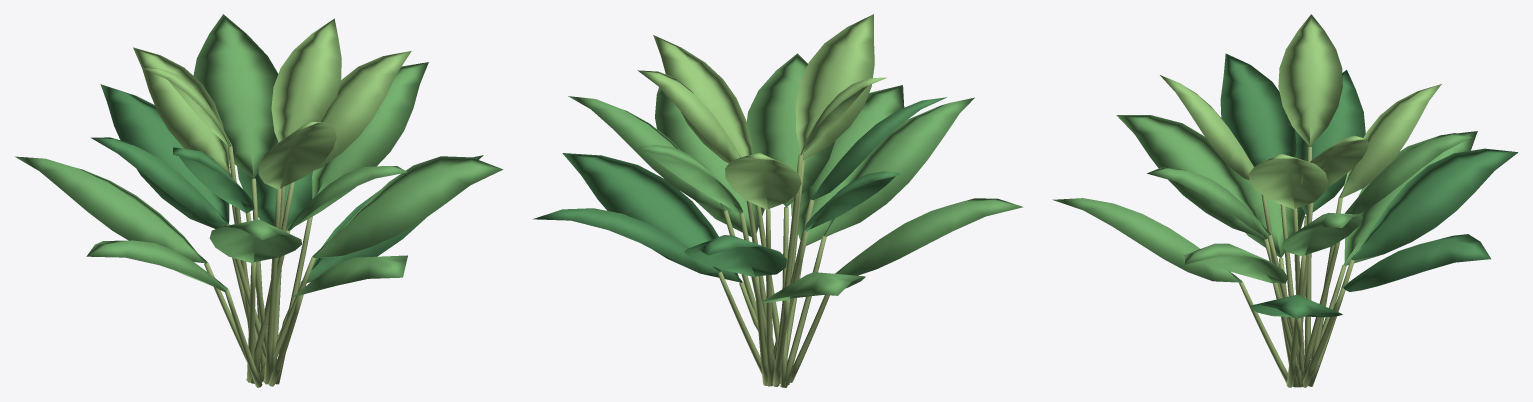
Rendered from SM_PlantPot.fbx.
3 renders of one model, left to right at view 1: azimuth 30°, elevation 25°; view 2: azimuth 150°, elevation 25°; view 3: azimuth 270°, elevation 25°, orthographic. The views are drawn at different scales.
Visible parts, largest first — view 1: PlantPot; view 2: PlantPot; view 3: PlantPot.
Part boxes in pixels (left/top/right/bottom): PlantPot: left=15, top=14, right=503, bottom=387; PlantPot: left=533, top=14, right=1023, bottom=387; PlantPot: left=1052, top=14, right=1517, bottom=387.
Size of the model in its own units: 1.29 by 0.9683 by 1.29.
